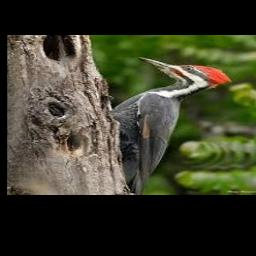Woodpecker: (109, 57, 231, 195)
